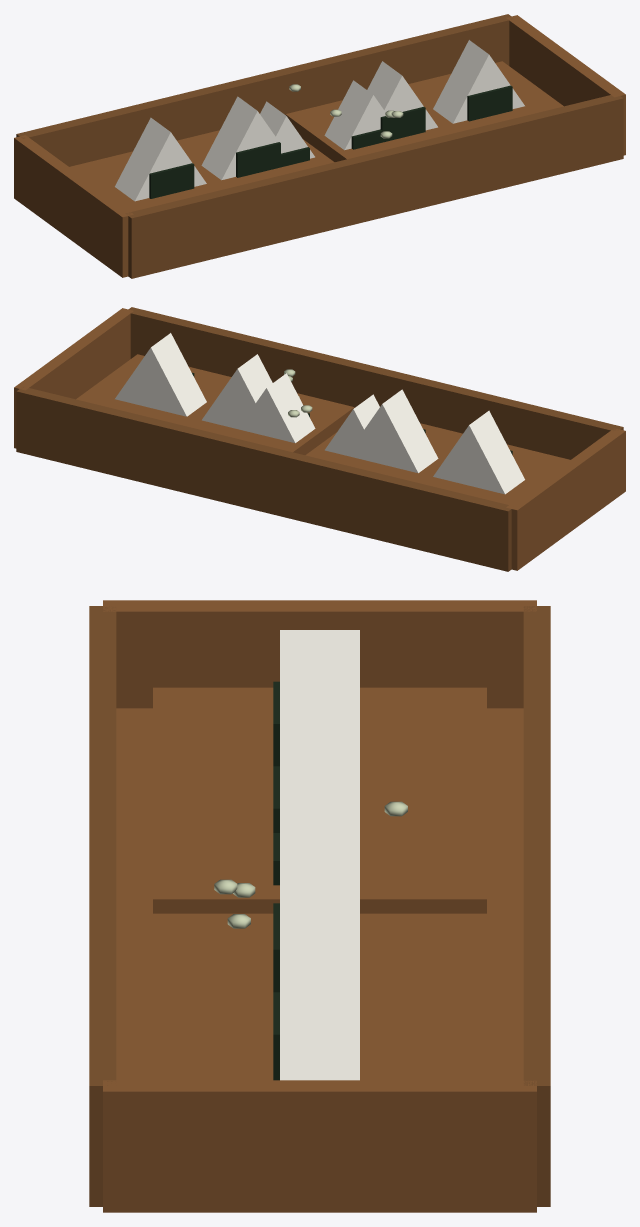
Rendered from Dish_RiceBall.fbx.
The picture shows the model from 3 angles, top to bottom: view 1: azimuth 30°, elevation 25°; view 2: azimuth 150°, elevation 25°; view 3: azimuth 270°, elevation 25°; orthographic projection. The views are drawn at different scales.
Visible parts, largest first — view 1: Dish_RiceBall__Stack, Dish_RiceBall, Dish_RiceBall__Rotten; view 2: Dish_RiceBall__Stack, Dish_RiceBall; view 3: Dish_RiceBall__Stack, Dish_RiceBall, Dish_RiceBall__Rotten.
Part boxes in pixels (x1=…): Dish_RiceBall__Stack: x1=14, y1=14, x2=625, y2=278; Dish_RiceBall: x1=260, y1=80, x2=385, y2=167; Dish_RiceBall__Rotten: x1=289, y1=84, x2=403, y2=138; Dish_RiceBall__Stack: x1=14, y1=307, x2=625, y2=571; Dish_RiceBall: x1=238, y1=373, x2=381, y2=464; Dish_RiceBall__Stack: x1=89, y1=600, x2=550, y2=1212; Dish_RiceBall: x1=273, y1=767, x2=359, y2=907; Dish_RiceBall__Rotten: x1=214, y1=801, x2=407, y2=928.
Bounding box in the file's own units: 0.348 × 0.06 × 0.138.
